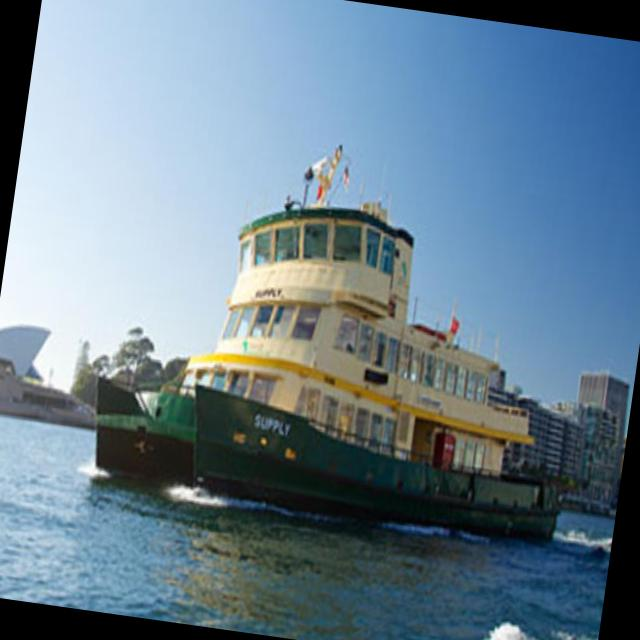boat: (71, 112, 640, 612)
